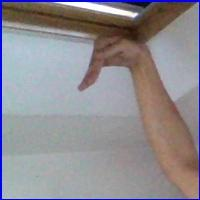del: (74, 31, 155, 97)
